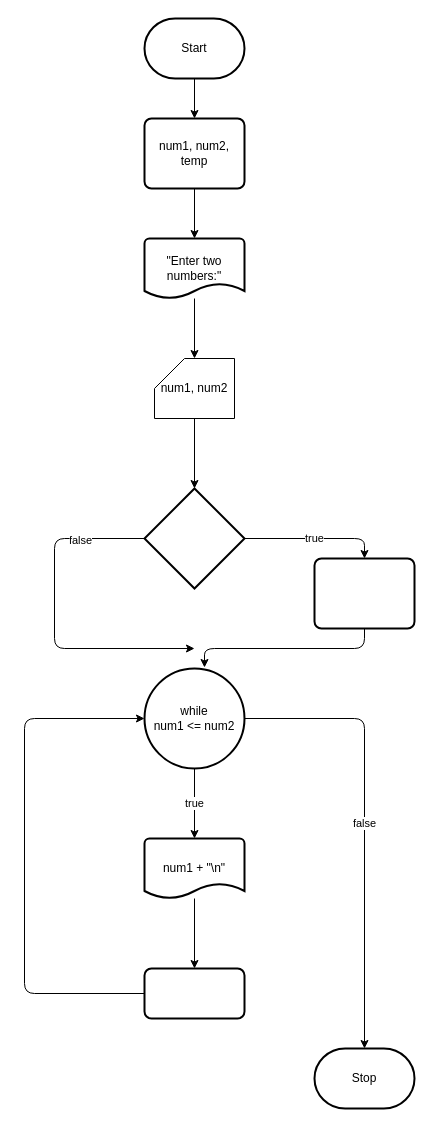
Image size: 433x1126. Some labels were removed from this diagram. Each missing label, with the centre of its shape:
num1 = num1 +1: point (194, 993)
num1 > num2: point (194, 538)
temp = num1 num1 = num2 num2 = temp: point (364, 593)
